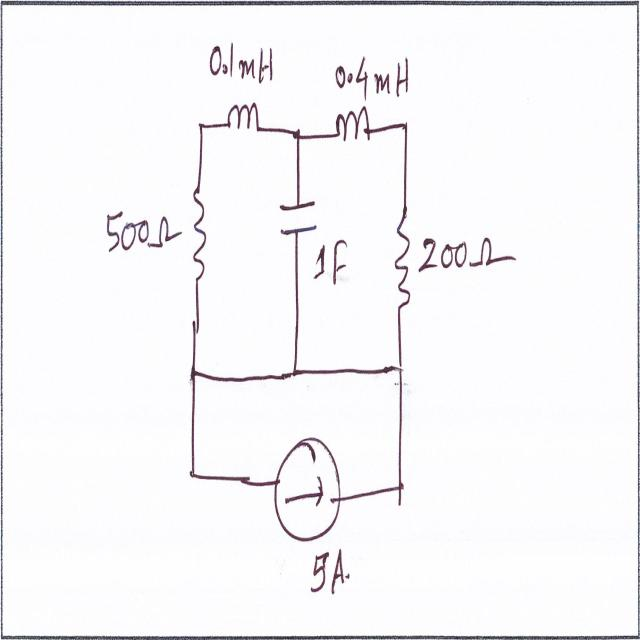capacitor: (278, 191, 321, 248)
current_source: (270, 426, 344, 546)
inductor: (331, 106, 377, 156), (222, 95, 266, 144)
resistor: (389, 205, 413, 320), (186, 178, 210, 290)
